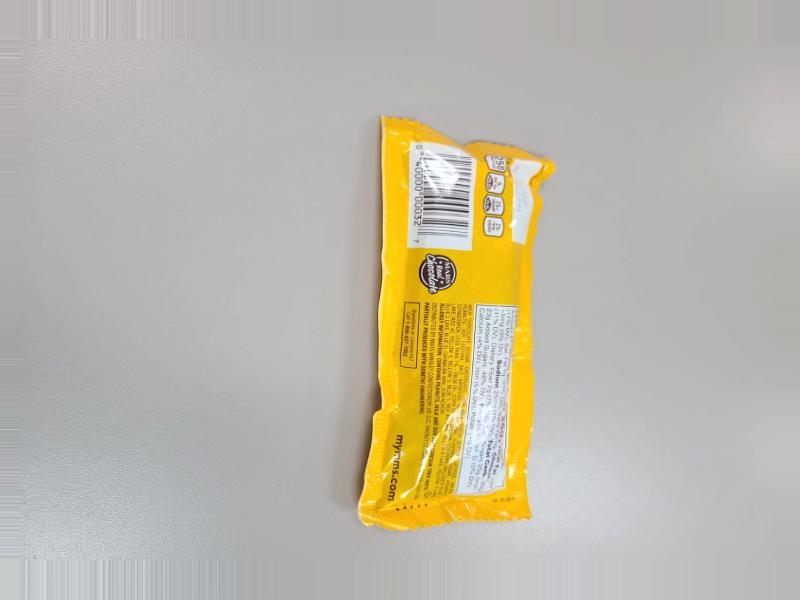m&m: (346, 93, 565, 525)
